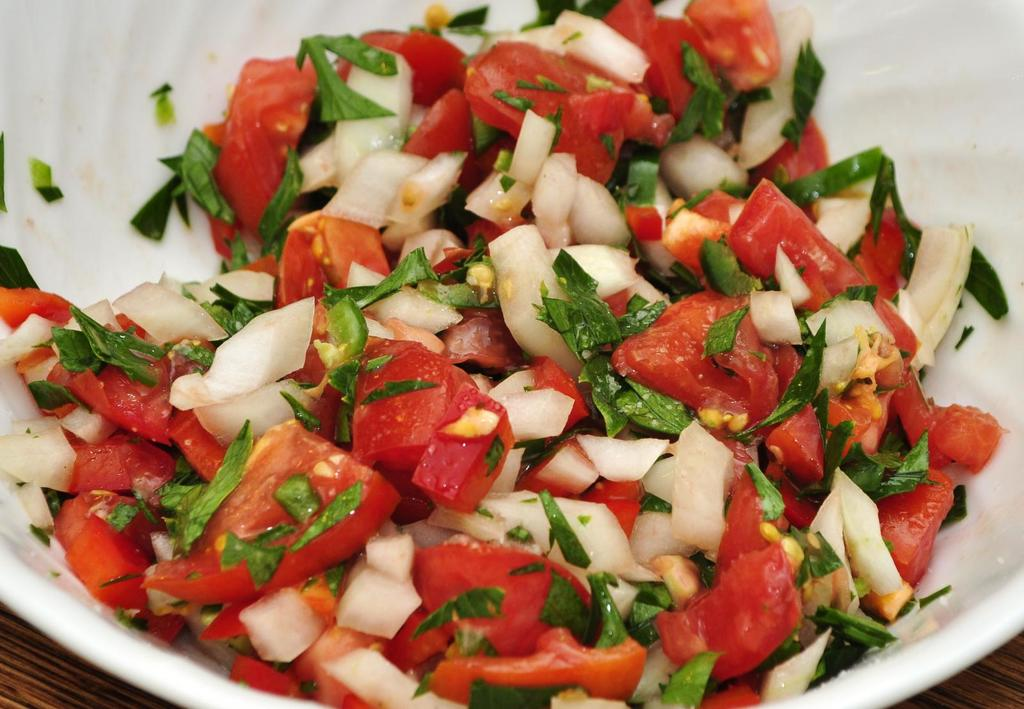Tomato: (141, 419, 393, 603), (352, 337, 516, 522), (609, 293, 798, 427), (468, 40, 637, 186), (588, 0, 780, 121), (204, 55, 327, 236), (39, 363, 230, 474), (407, 542, 557, 680), (718, 172, 865, 312), (678, 525, 808, 676), (277, 208, 394, 367), (430, 625, 647, 705), (48, 495, 156, 630), (331, 23, 474, 107), (865, 463, 956, 584), (446, 307, 520, 373), (397, 91, 472, 150)
